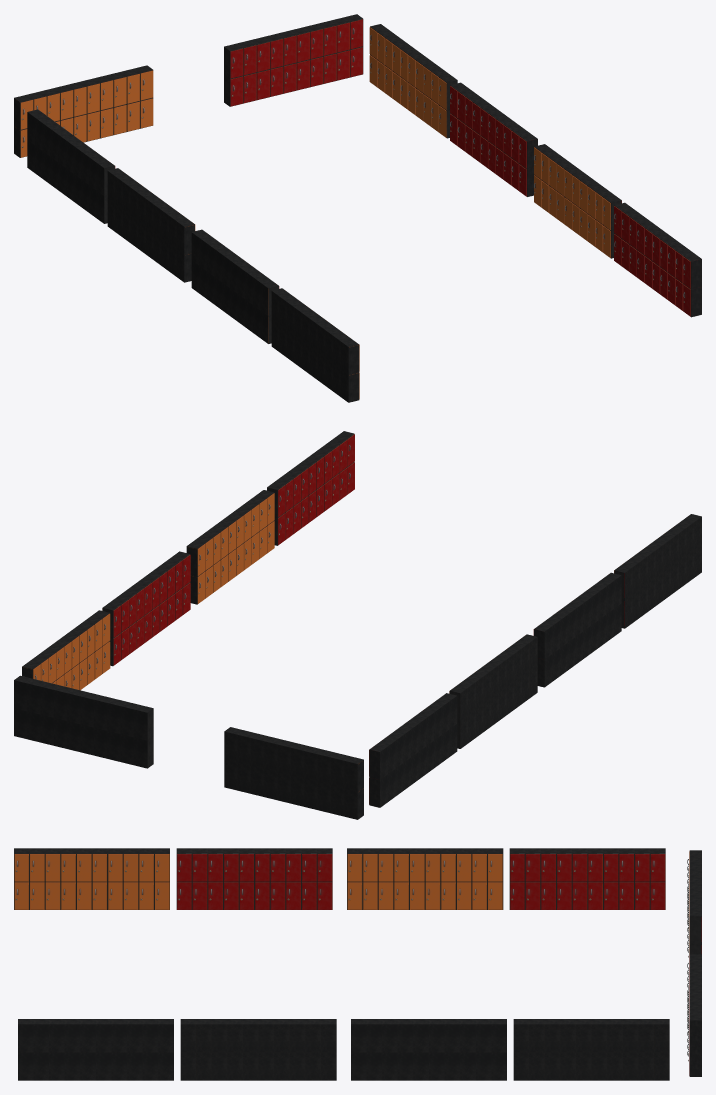
File: vaults.fbx
3 renders of one model, top to bottom at view 1: azimuth 30°, elevation 25°; view 2: azimuth 150°, elevation 25°; view 3: azimuth 270°, elevation 25°, orthographic.
Parts seen in each view (by area): view 1: Cloner_1__0, Cloner__0, Cloner__0.002, Cloner_1__0.003, Cloner__0.001, Cloner_1__0.004, Cloner_1__0.001, Cloner__0.004, Cloner_1__0.002, Cloner__0.003; view 2: Cloner_1__0, Cloner__0, Cloner_1__0.001, Cloner_1__0.002, Cloner__0.003, Cloner_1__0.004, Cloner__0.001, Cloner_1__0.003, Cloner__0.002, Cloner__0.004; view 3: Cloner_1__0.001, Cloner_1__0.002, Cloner__0.001, Cloner__0.003, Cloner__0.004, Cloner_1__0.003, Cloner_1__0.004, Cloner__0.002, Cloner_1__0, Cloner__0.
Part boxes in pixels (x1=…): Cloner_1__0: x1=224, y1=14, x2=363, y2=106; Cloner__0: x1=14, y1=65, x2=153, y2=157; Cloner__0.002: x1=271, y1=288, x2=359, y2=402; Cloner_1__0.003: x1=614, y1=202, x2=701, y2=317; Cloner__0.001: x1=107, y1=168, x2=195, y2=282; Cloner_1__0.004: x1=450, y1=82, x2=537, y2=196; Cloner_1__0.001: x1=27, y1=109, x2=115, y2=223; Cloner__0.004: x1=369, y1=24, x2=457, y2=138; Cloner_1__0.002: x1=191, y1=229, x2=279, y2=343; Cloner__0.003: x1=534, y1=144, x2=621, y2=258; Cloner_1__0: x1=14, y1=675, x2=153, y2=768; Cloner__0: x1=224, y1=727, x2=363, y2=819; Cloner_1__0.001: x1=369, y1=693, x2=457, y2=807; Cloner_1__0.002: x1=533, y1=572, x2=621, y2=687; Cloner__0.003: x1=186, y1=490, x2=274, y2=604; Cloner_1__0.004: x1=102, y1=551, x2=190, y2=666; Cloner__0.001: x1=449, y1=634, x2=537, y2=748; Cloner_1__0.003: x1=267, y1=431, x2=354, y2=545; Cloner__0.002: x1=614, y1=514, x2=701, y2=628; Cloner__0.004: x1=22, y1=610, x2=110, y2=690; Cloner_1__0.001: x1=509, y1=848, x2=665, y2=909; Cloner_1__0.002: x1=176, y1=848, x2=332, y2=909; Cloner__0.001: x1=347, y1=848, x2=503, y2=909; Cloner__0.003: x1=180, y1=1019, x2=336, y2=1080; Cloner__0.004: x1=513, y1=1019, x2=669, y2=1080; Cloner_1__0.003: x1=18, y1=1019, x2=173, y2=1080; Cloner_1__0.004: x1=351, y1=1019, x2=506, y2=1080; Cloner__0.002: x1=14, y1=848, x2=169, y2=909; Cloner_1__0: x1=687, y1=954, x2=701, y2=1076; Cloner__0: x1=687, y1=850, x2=701, y2=957.
Bounding box in the file's own units: 2000 × 300 × 3305.
Materials: 1 (1 with a texture image).
